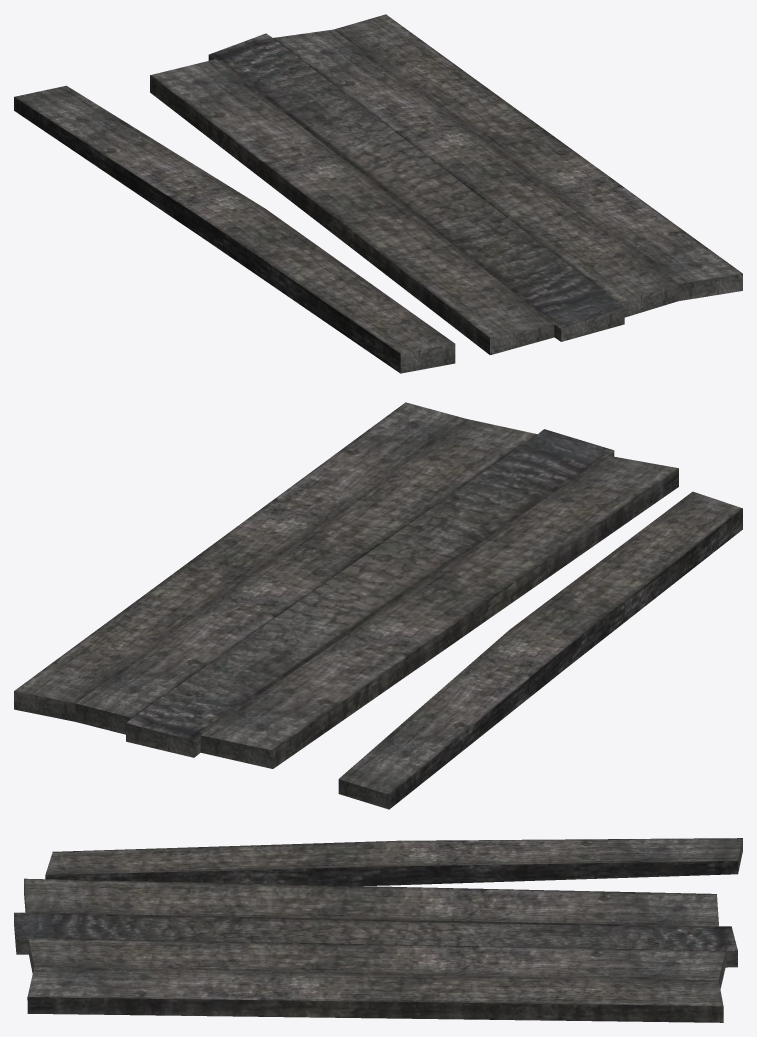
File: eso_gu11_RuinedWoodPlanks-transformed.glb
3 renders of one model, top to bottom at view 1: azimuth 30°, elevation 25°; view 2: azimuth 150°, elevation 25°; view 3: azimuth 270°, elevation 25°, orthographic. The views are drawn at different scales.
Visible parts, largest first — view 1: default; view 2: default; view 3: default.
Boxes of the visible parts, left/top/right/bottom form: default: left=14, top=14, right=742, bottom=373; default: left=14, top=402, right=742, bottom=809; default: left=14, top=838, right=742, bottom=1022.
Bounding box in the file's own units: 3.61 × 0.2975 × 6.56.
Materials: 1 (1 with a texture image).
